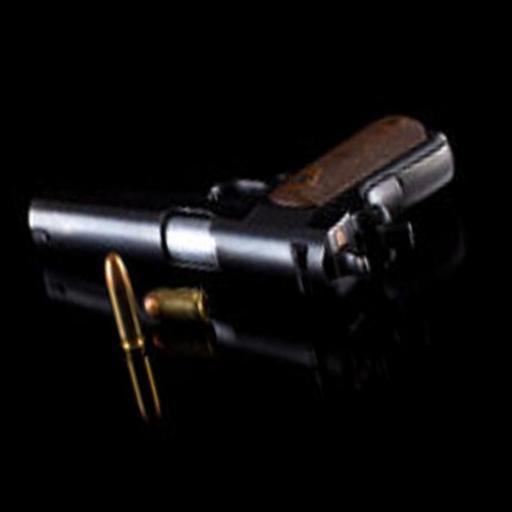Handgun: (18, 94, 483, 370)
